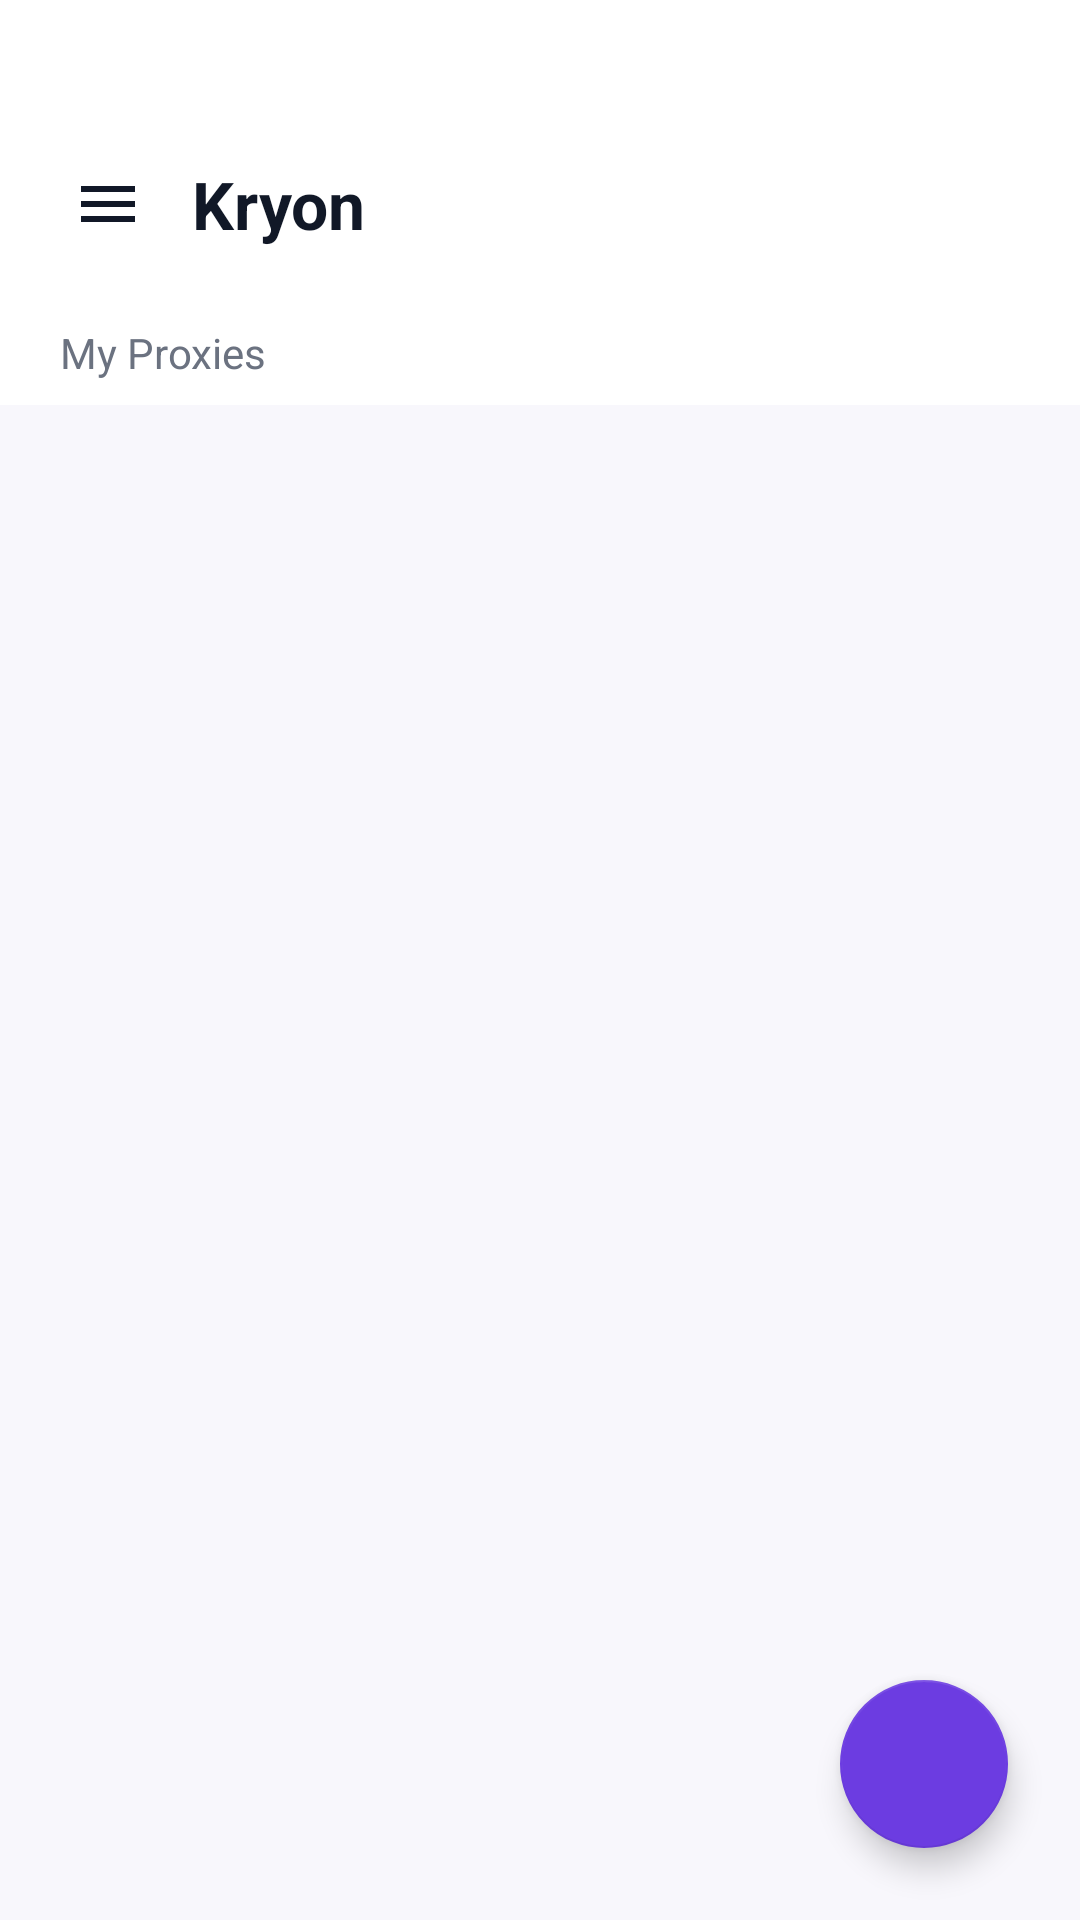

Named icons in this screenshot (1080 x 1920) and their bounding boxes, (x1, y1, x2, y2):
Menu: (81, 186, 135, 222)
